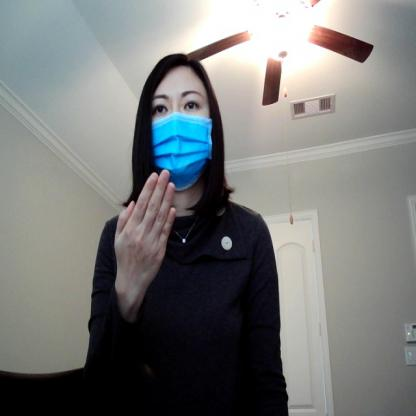thanks: (110, 167, 178, 304)
